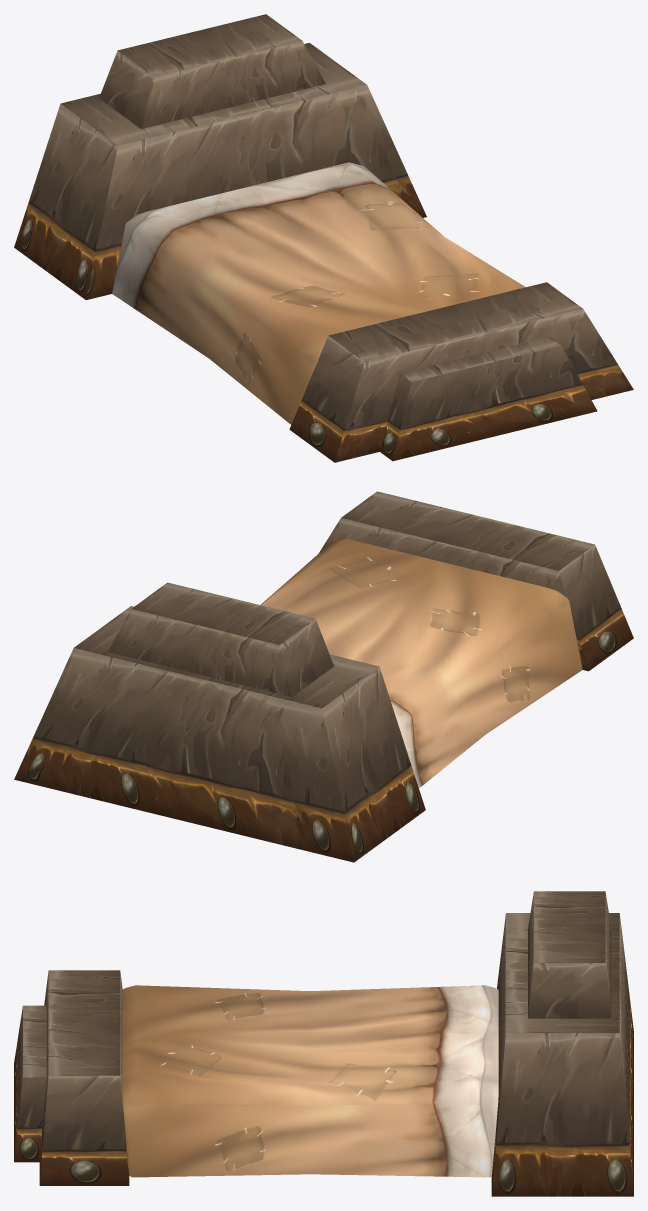
Rendered from dwarvenbed01.obj.
3 views of the same model, one above another, from view 1: azimuth 30°, elevation 25°; view 2: azimuth 150°, elevation 25°; view 3: azimuth 270°, elevation 25° (orthographic).
Parts seen in each view (by area): view 1: Geoset1, Geoset0; view 2: Geoset1, Geoset0; view 3: Geoset0, Geoset1.
Part boxes in pixels (x1,y1,x2,y2): Geoset1: (14, 14, 633, 462); Geoset0: (112, 162, 525, 424); Geoset1: (14, 491, 633, 862); Geoset0: (260, 538, 582, 788); Geoset0: (122, 985, 498, 1177); Geoset1: (14, 891, 633, 1196).
Bounding box in the file's own units: 4.41 × 2.3 × 7.02.
2 materials, 2 textured.
